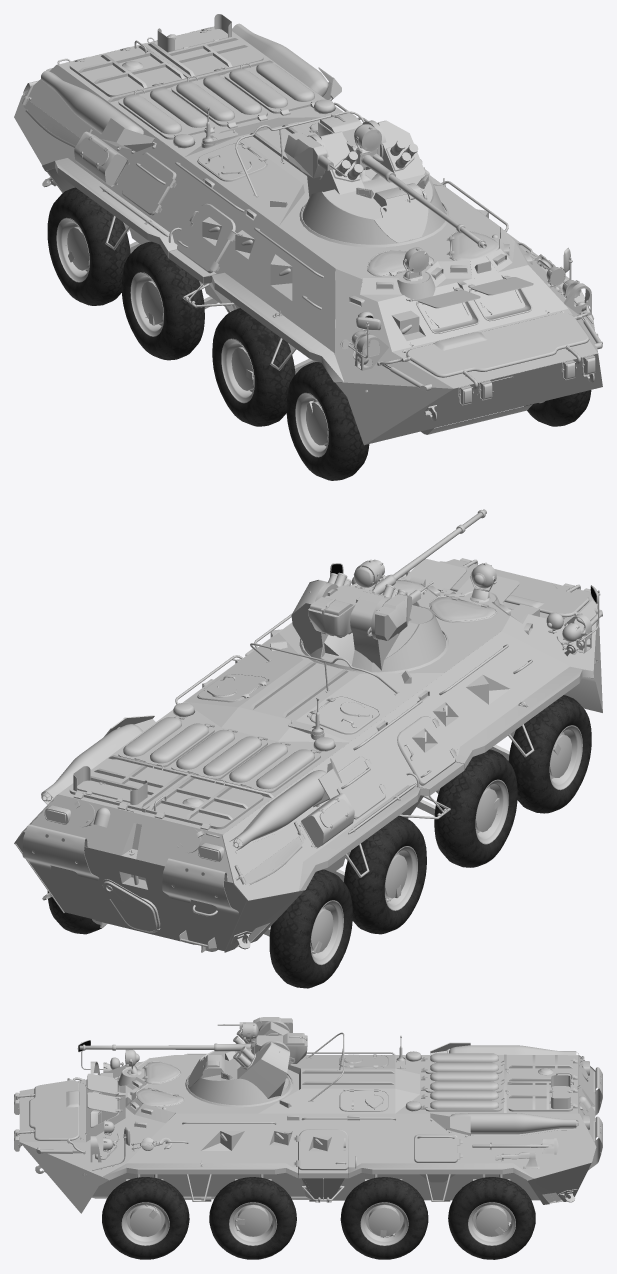
The picture shows the model from 3 angles, top to bottom: view 1: azimuth 30°, elevation 25°; view 2: azimuth 150°, elevation 25°; view 3: azimuth 270°, elevation 25°; orthographic projection. The views are drawn at different scales.
Visible parts, largest first — view 1: BTR_80_A, BTR_80_B, BTR_80_WA006, BTR_80_WA007, BTR_80_WA005, BTR_80_WA004, BTR_80_C, BTR_80_WB006, BTR_80_WB005, BTR_80_WB007, BTR_80_WB004, BTR_80_WA002 (+1 smaller); view 2: BTR_80_A, BTR_80_B, BTR_80_WA005, BTR_80_WA004, BTR_80_WA006, BTR_80_WA007, BTR_80_C, BTR_80_D, BTR_80_WB006, BTR_80_WB004, BTR_80_WB005, BTR_80_WB007 (+1 smaller); view 3: BTR_80_A, BTR_80_B, BTR_80_WA, BTR_80_WA003, BTR_80_WA001, BTR_80_WA002, BTR_80_C, BTR_80_WB001, BTR_80_WB002, BTR_80_WB003, BTR_80_WB, BTR_80_D.
Boxes of the visible parts, x1,y1,x2,y2 form: BTR_80_A: (14, 14, 602, 445); BTR_80_B: (302, 120, 445, 244); BTR_80_WA006: (121, 241, 204, 360); BTR_80_WA007: (47, 187, 130, 305); BTR_80_WA005: (212, 308, 295, 426); BTR_80_WA004: (286, 362, 369, 480); BTR_80_C: (284, 112, 486, 248); BTR_80_WB006: (130, 272, 163, 336); BTR_80_WB005: (221, 338, 254, 403); BTR_80_WB007: (56, 217, 89, 282); BTR_80_WB004: (295, 392, 328, 457); BTR_80_WA002: (524, 390, 591, 426); BTR_80_A: (14, 558, 602, 952); BTR_80_B: (291, 572, 445, 672); BTR_80_WA005: (434, 749, 517, 867); BTR_80_WA004: (508, 695, 591, 813); BTR_80_WA006: (344, 815, 426, 934); BTR_80_WA007: (269, 869, 352, 988); BTR_80_C: (308, 509, 486, 640); BTR_80_D: (404, 559, 519, 604); BTR_80_WB006: (384, 846, 417, 910); BTR_80_WB004: (549, 725, 582, 790); BTR_80_WB005: (475, 779, 508, 844); BTR_80_WB007: (310, 900, 343, 964); BTR_80_A: (14, 1032, 602, 1213); BTR_80_B: (187, 1020, 295, 1105); BTR_80_WA: (448, 1177, 535, 1259); BTR_80_WA003: (209, 1177, 296, 1259); BTR_80_WA001: (340, 1177, 428, 1259); BTR_80_WA002: (102, 1177, 189, 1259); BTR_80_C: (79, 1017, 307, 1064); BTR_80_WB001: (360, 1202, 408, 1245); BTR_80_WB002: (121, 1202, 169, 1245); BTR_80_WB003: (229, 1202, 277, 1245); BTR_80_WB: (468, 1202, 515, 1245); BTR_80_D: (87, 1073, 119, 1113).
Bounding box in the file's own units: 0.7676 × 0.737 × 2.
